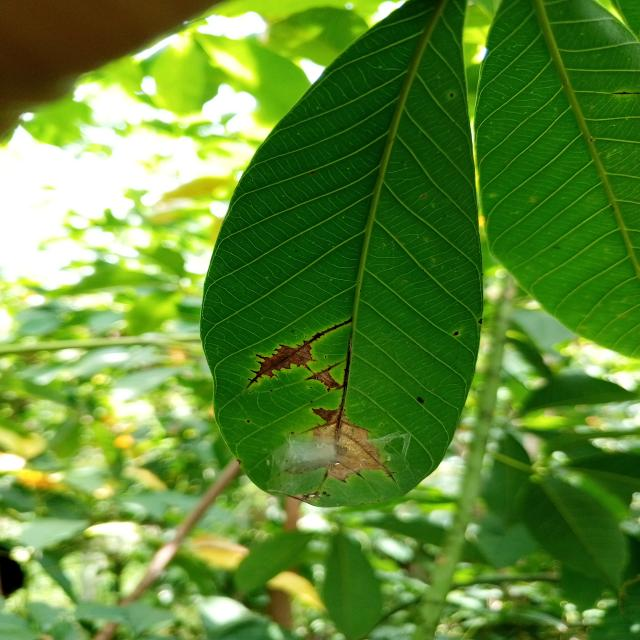Corynespora: (245, 317, 354, 389), (304, 359, 344, 381)
Leaf-Blight: (308, 408, 391, 482), (313, 372, 340, 388)
